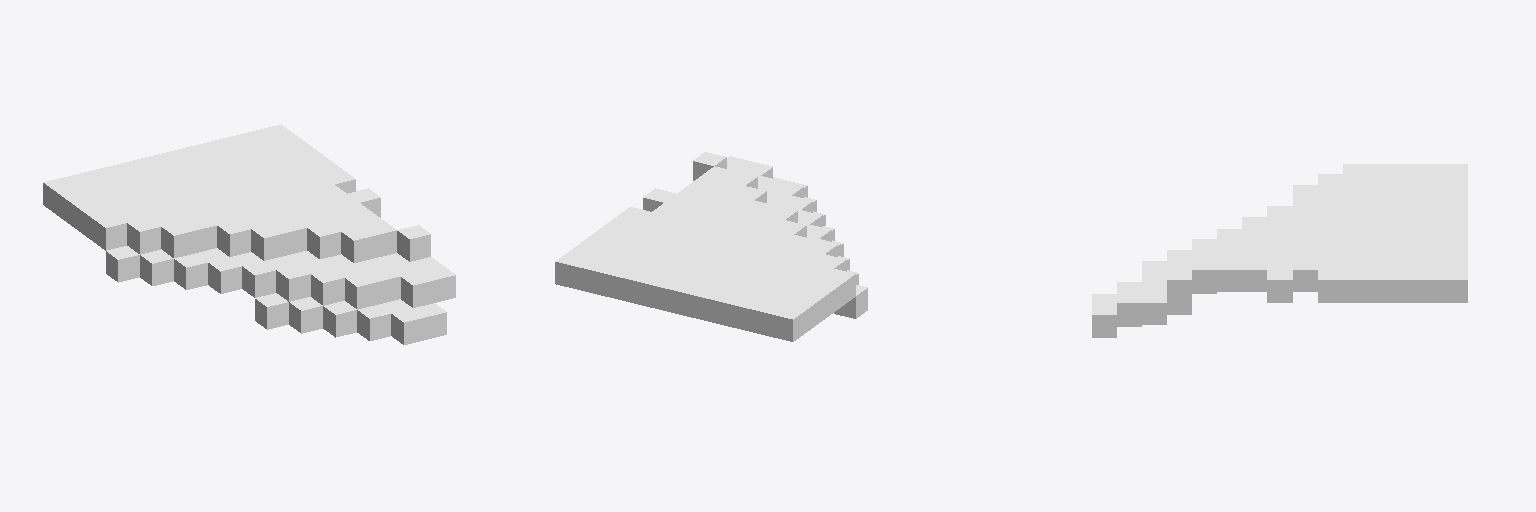
File: stairs_shard-8.obj
The picture shows the model from 3 angles: view 1: azimuth 30°, elevation 25°; view 2: azimuth 150°, elevation 25°; view 3: azimuth 270°, elevation 25°; orthographic projection.
Parts seen in each view (by area): view 1: object 1; view 2: object 1; view 3: object 1.
Part boxes in pixels (left/top/right/bottom): object 1: left=43, top=124, right=455, bottom=344; object 1: left=555, top=152, right=867, bottom=341; object 1: left=1092, top=164, right=1467, bottom=337.
Size of the model in its own units: 1.1 by 0.3 by 1.5.